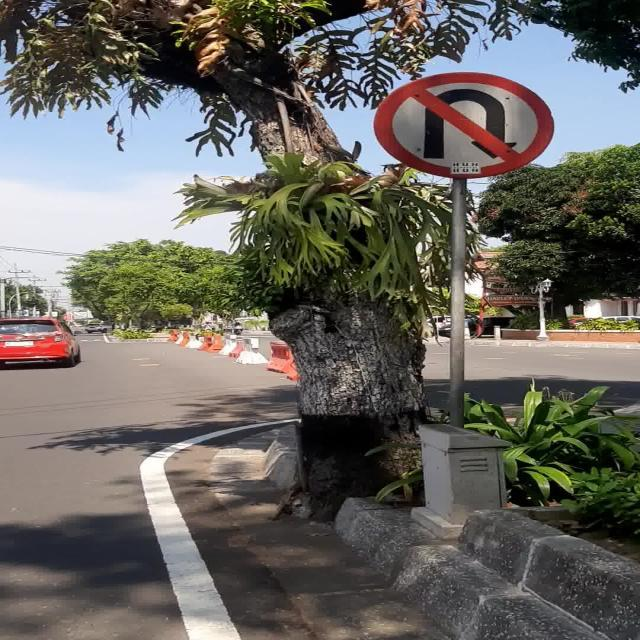Dilarang Putar Balik: (372, 72, 556, 178)
